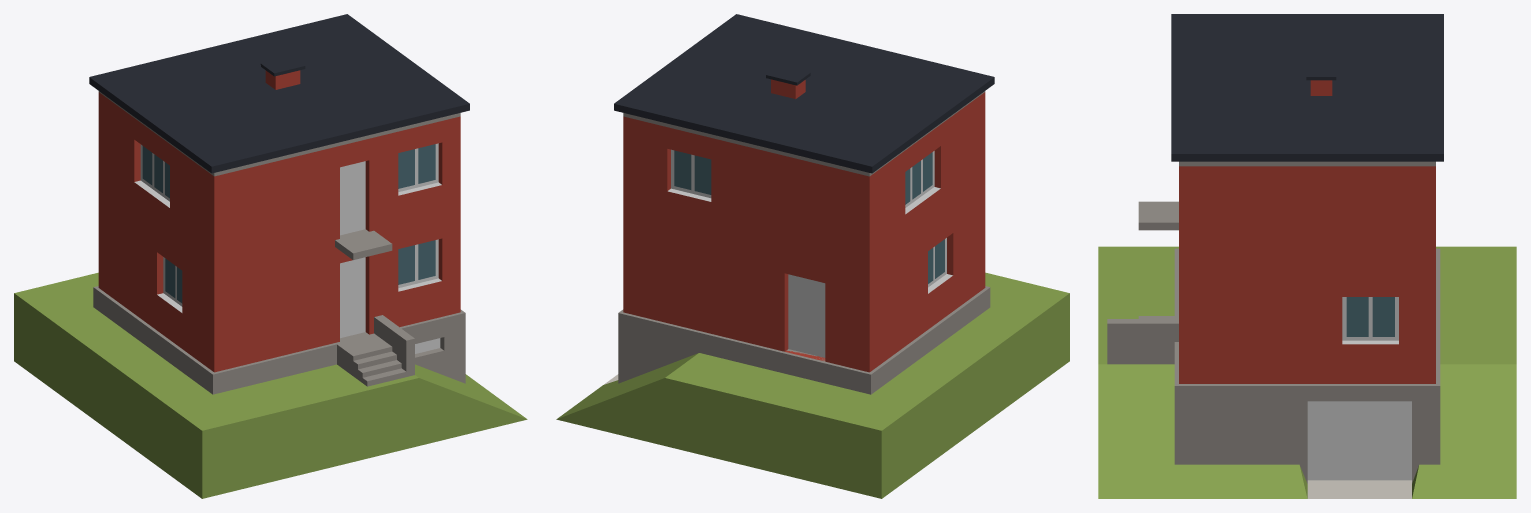
The model's file is house_bata_03.fbx.
3 renders of one model, left to right at view 1: azimuth 30°, elevation 25°; view 2: azimuth 150°, elevation 25°; view 3: azimuth 270°, elevation 25°, orthographic. The views are drawn at different scales.
Parts seen in each view (by area): view 1: bata_house_03; view 2: bata_house_03; view 3: bata_house_03.
Boxes of the visible parts, x1,y1,x2,y2 form: bata_house_03: (14, 14, 527, 498); bata_house_03: (556, 14, 1069, 498); bata_house_03: (1098, 14, 1516, 498).
Bounding box in the file's own units: 1000 × 929 × 1000.
